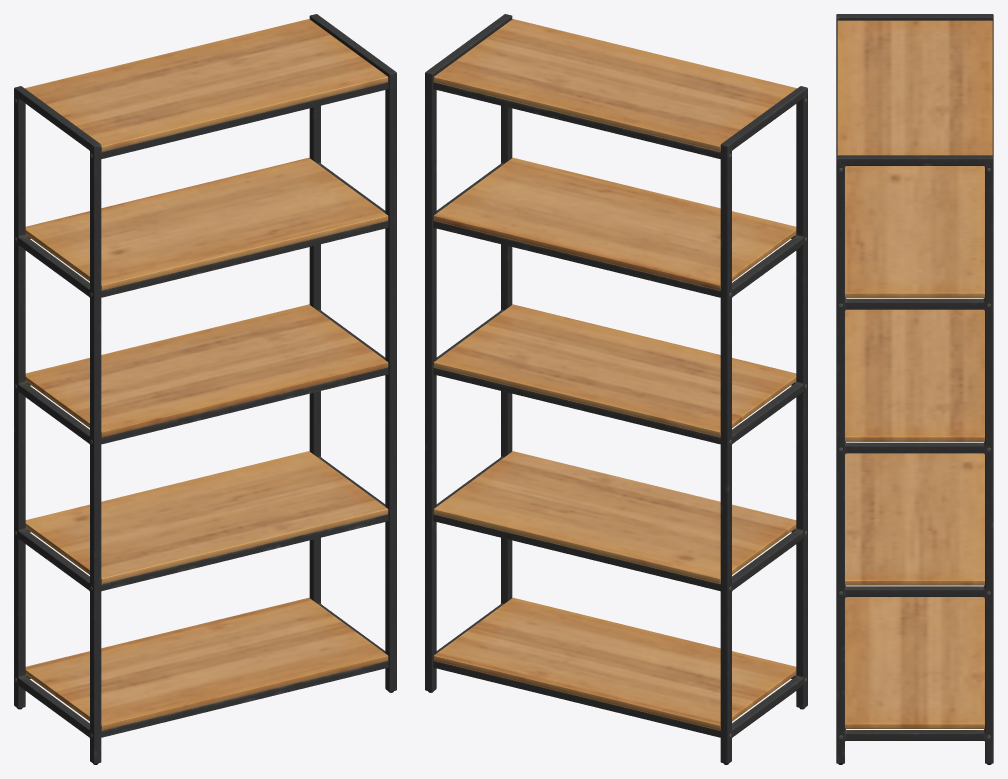
Rendered from steel_frame_shelves_01.027aed1a8d.glb.
3 views of the same model, side by side, from view 1: azimuth 30°, elevation 25°; view 2: azimuth 150°, elevation 25°; view 3: azimuth 270°, elevation 25° (orthographic). The views are drawn at different scales.
Parts seen in each view (by area): view 1: steel_frame_shelves_01; view 2: steel_frame_shelves_01; view 3: steel_frame_shelves_01.
Part boxes in pixels (x1=…): steel_frame_shelves_01: x1=14, y1=14, x2=396, y2=764; steel_frame_shelves_01: x1=425, y1=14, x2=807, y2=764; steel_frame_shelves_01: x1=836, y1=14, x2=993, y2=764.
Size of the model in its own units: 10.97 by 21.41 by 5.02.
1 material, 1 textured.
